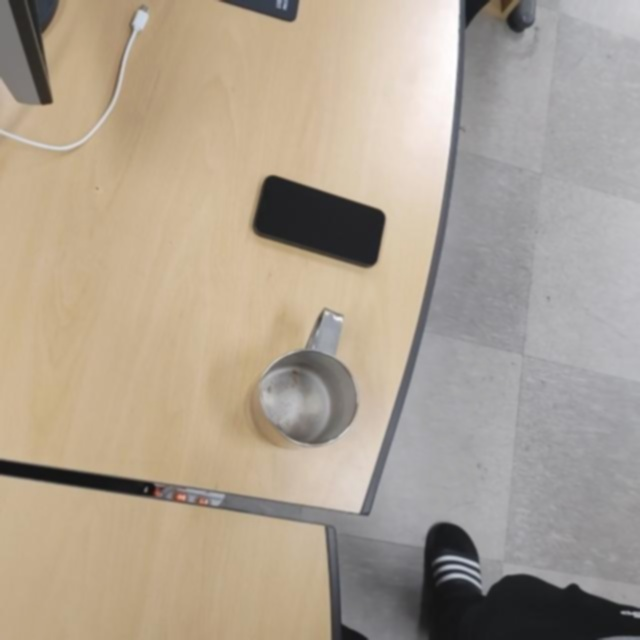cup: (251, 307, 360, 449)
phone: (250, 175, 387, 269)
